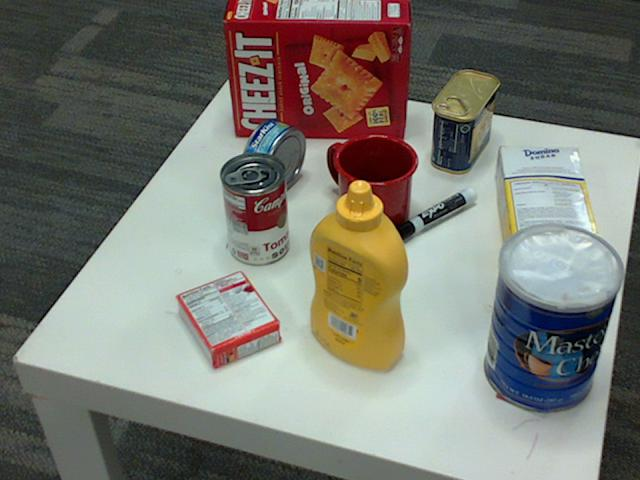cracker_box: (225, 0, 410, 138)
gelatin_box: (172, 269, 277, 369)
large_marker: (390, 191, 477, 242)
master_chef_can: (485, 225, 625, 414)
mug: (326, 132, 418, 235)
mustard_bottle: (309, 181, 407, 370)
potted_meat_can: (430, 71, 497, 174)
sugar_box: (495, 145, 601, 277)
tomato_soup_can: (220, 153, 288, 266)
tuna_fish_can: (239, 118, 305, 196)
